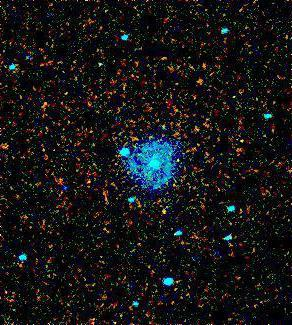star: (199, 242, 229, 272)
